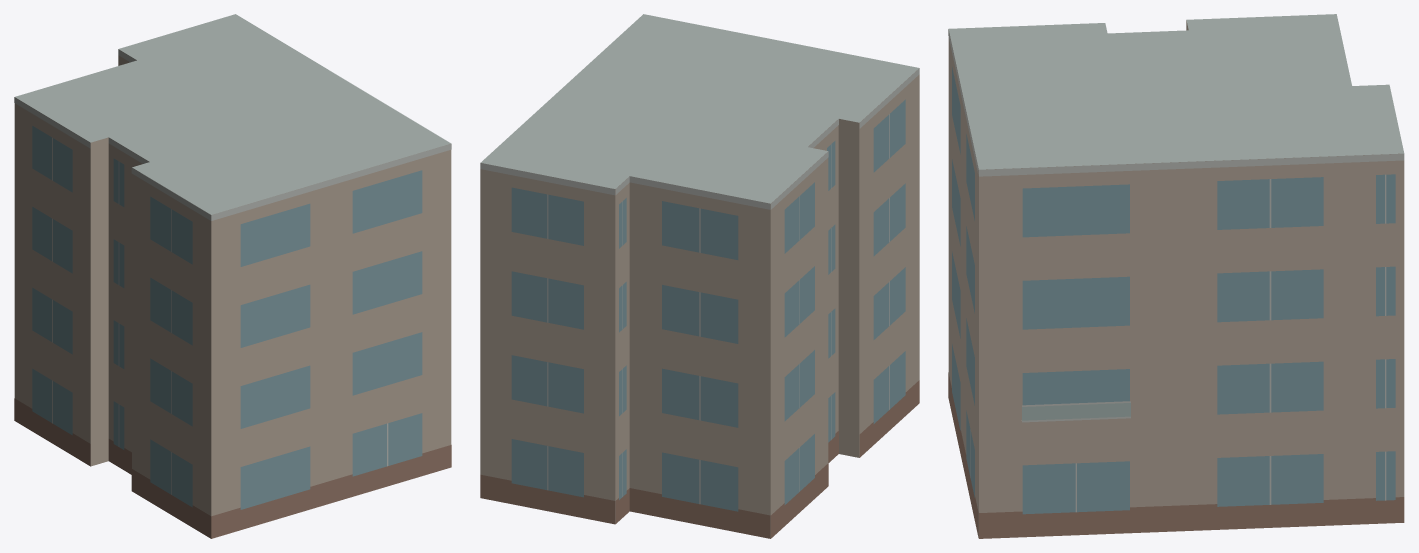
File: survey-upis-33046375.glb
3 renders of one model, left to right at view 1: azimuth 30°, elevation 25°; view 2: azimuth 150°, elevation 25°; view 3: azimuth 270°, elevation 25°, orthographic. The views are drawn at different scales.
Visible parts, largest first — view 1: survey-upis-33046375.tmp; view 2: survey-upis-33046375.tmp; view 3: survey-upis-33046375.tmp.
Boxes of the visible parts, <box> form: survey-upis-33046375.tmp: <box>14,14,451,538</box>; survey-upis-33046375.tmp: <box>480,14,919,538</box>; survey-upis-33046375.tmp: <box>948,14,1404,538</box>.
Size of the model in its own units: 11.77 by 13 by 14.56.
